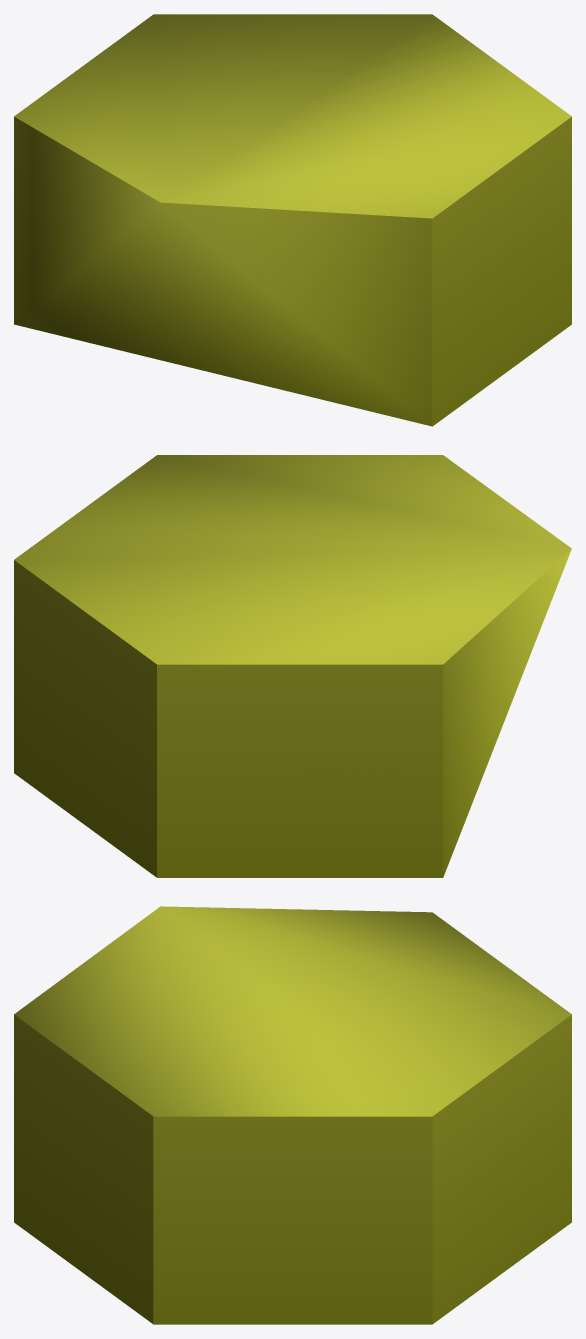
File: hex_grass-mid.glb
3 renders of one model, top to bottom at view 1: azimuth 30°, elevation 25°; view 2: azimuth 150°, elevation 25°; view 3: azimuth 270°, elevation 25°, orthographic. The views are drawn at different scales.
Visible parts, largest first — view 1: hex_grass; view 2: hex_grass; view 3: hex_grass.
Part boxes in pixels (box(x1,y1,x2,y2)): hex_grass: box(14, 14, 571, 426); hex_grass: box(14, 455, 571, 877); hex_grass: box(14, 906, 571, 1324).
Bounding box in the file's own units: 2 × 1 × 2.31.
1 material, 1 textured.
